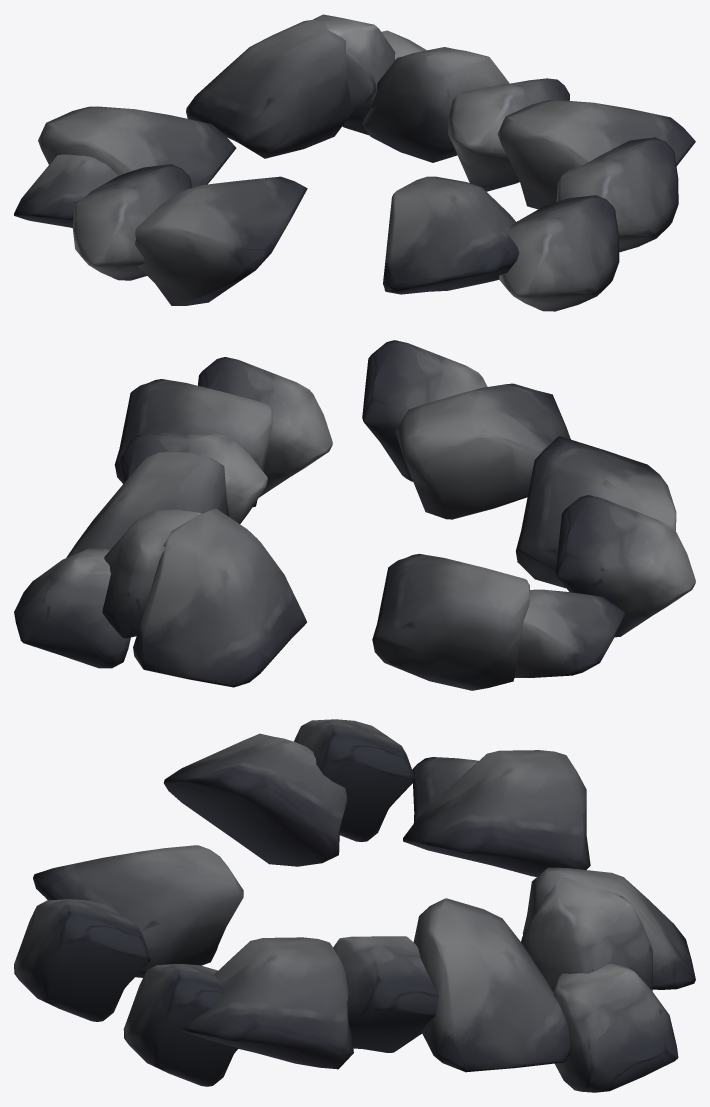
File: campfire.glb
The picture shows the model from 3 angles, top to bottom: view 1: azimuth 30°, elevation 25°; view 2: azimuth 150°, elevation 25°; view 3: azimuth 270°, elevation 25°; orthographic projection. The views are drawn at different scales.
Visible parts, largest first — view 1: mesh; view 2: mesh; view 3: mesh.
Boxes of the visible parts, left/top/right/bottom form: mesh: left=14, top=14, right=695, bottom=311; mesh: left=14, top=340, right=695, bottom=690; mesh: left=14, top=719, right=695, bottom=1092.
Bounding box in the file's own units: 0.7142 × 0.1833 × 0.6863.
1 material, 1 textured.
